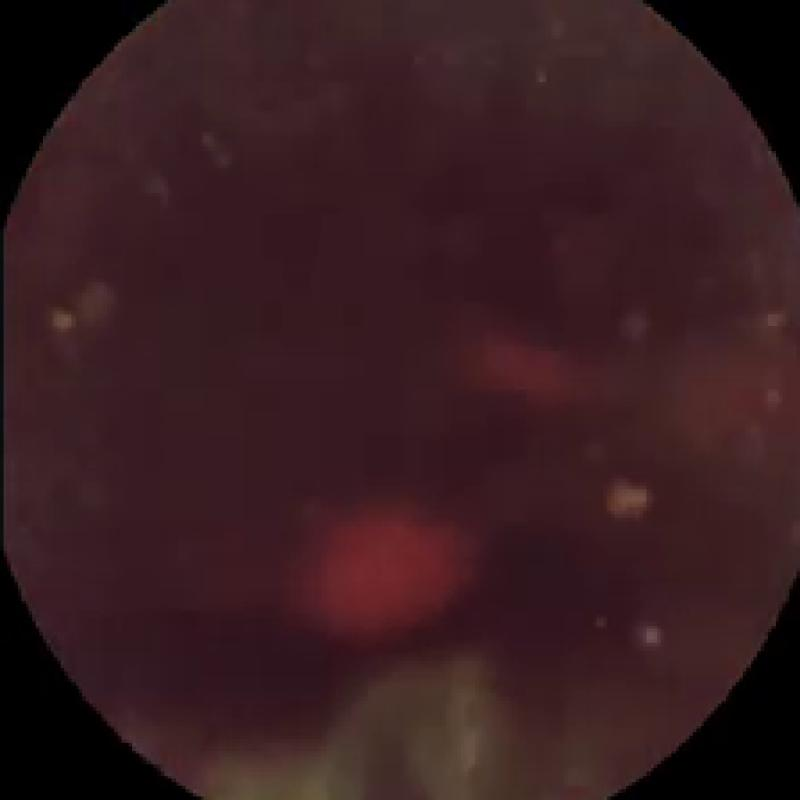bleeding: (274, 509, 480, 638), (461, 314, 586, 407)
